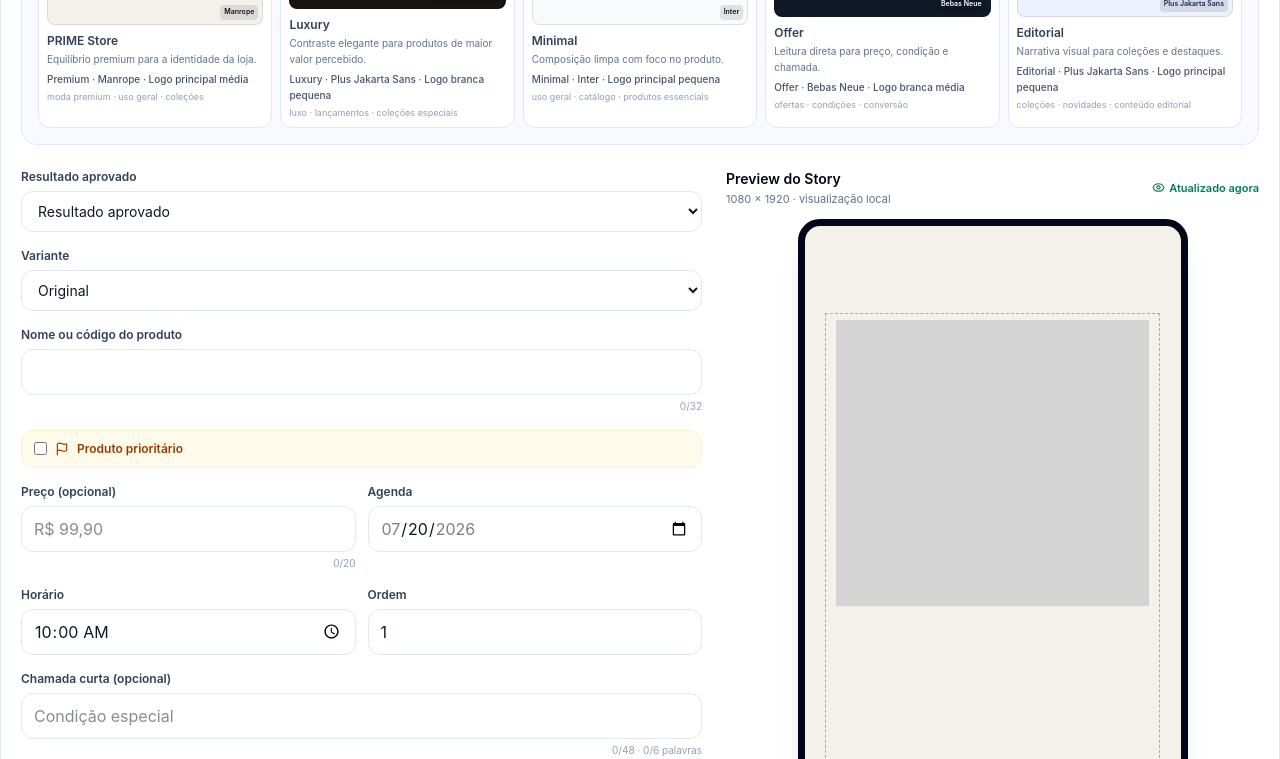
Scenario: StoryComposer › shows a safe configuration message when the DeepSeek key is absent
The image size is (1280, 759).
(page scrolled)
Type "Bolsa Prime" into the field labelled "Nome ou código do produto".
click(362, 372); type("Bolsa Prime")  # box [21,349,702,395]
(page scrolled)
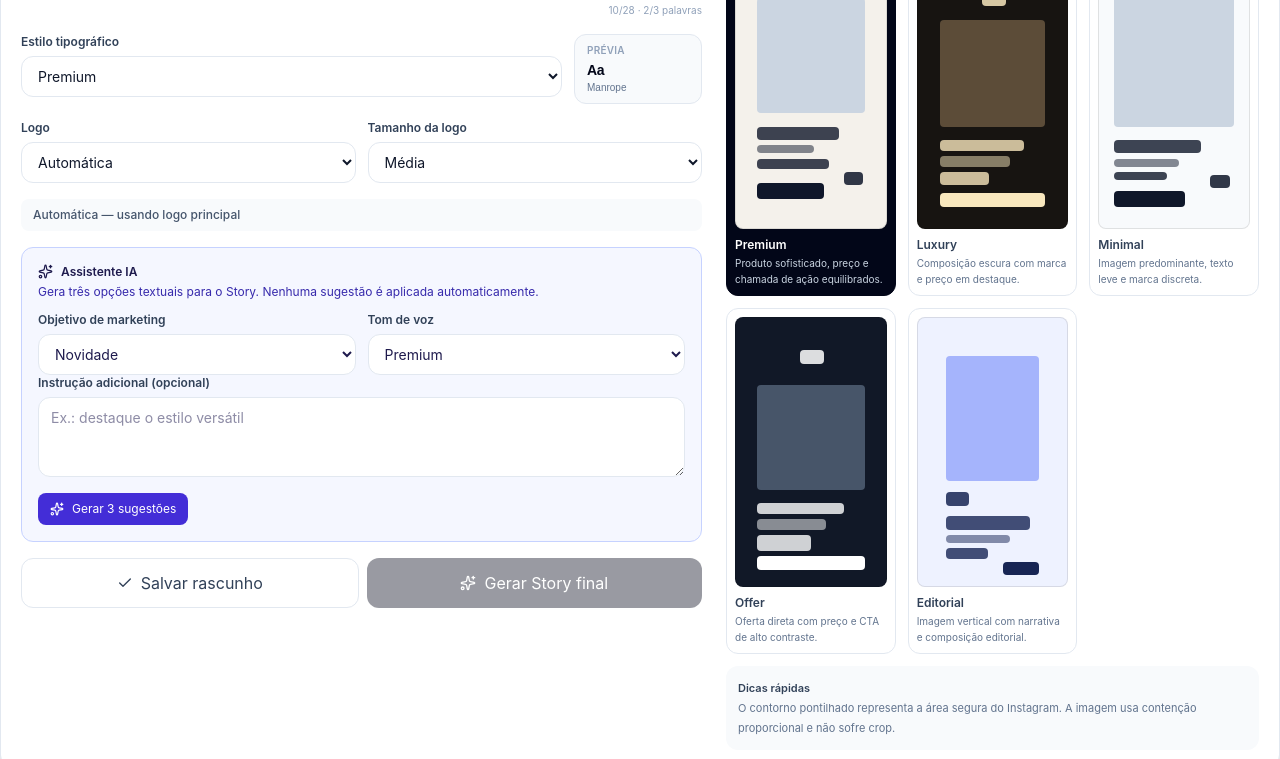
Click the button "Gerar 3 sugestões".
click(113, 509)  # box [38,493,188,525]
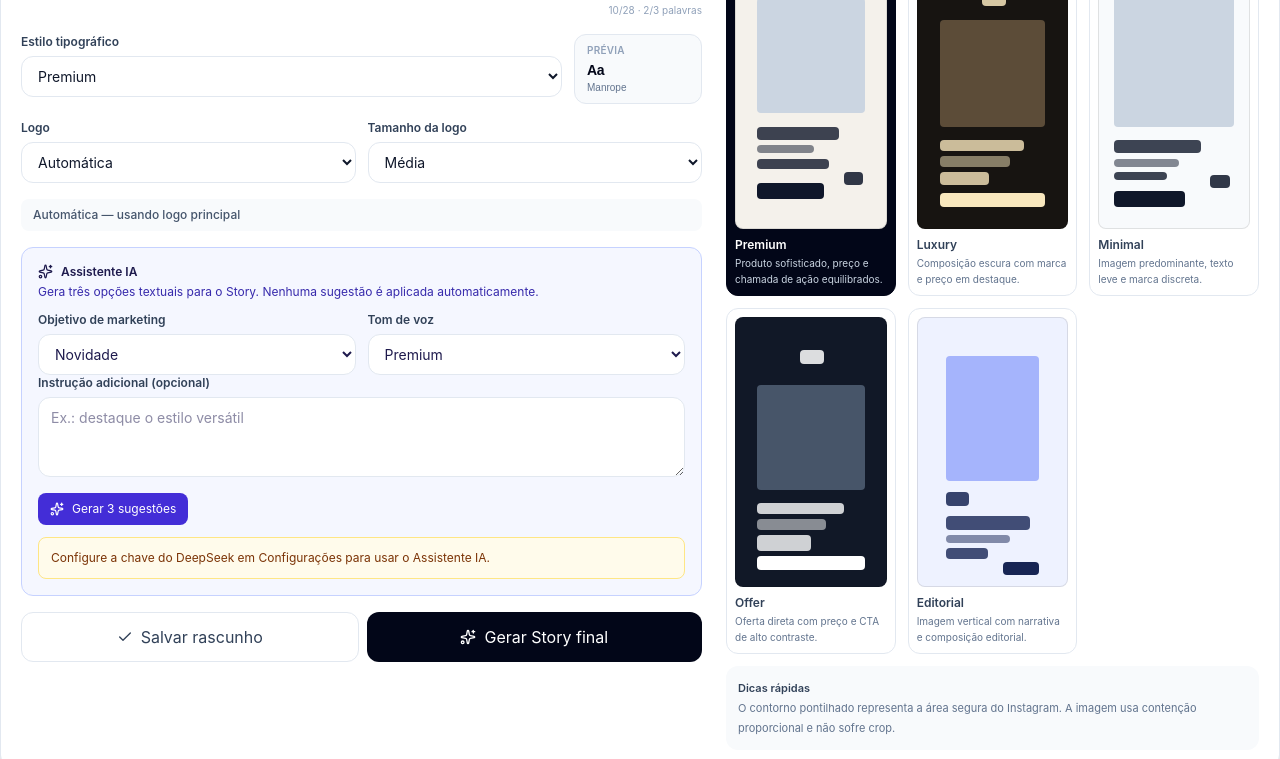
Expected: the message shows "Configure a chave do DeepSeek", [51,550,490,565]
